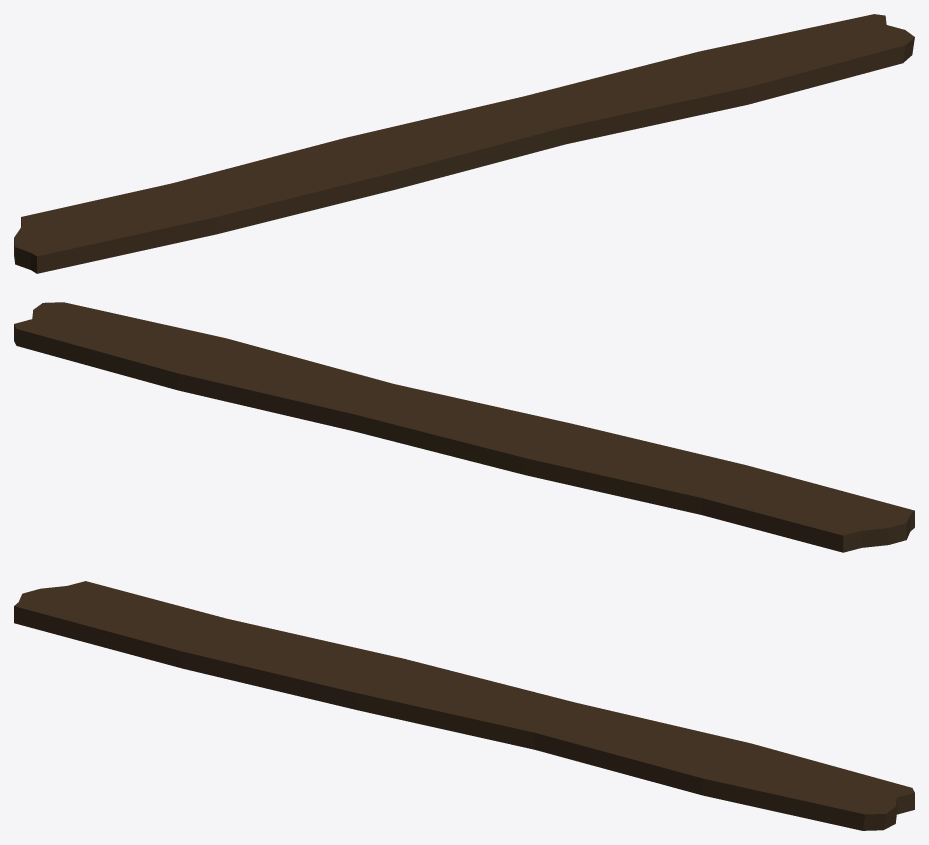
The model's file is WoodPlank.fbx.
3 views of the same model, one above another, from view 1: azimuth 30°, elevation 25°; view 2: azimuth 150°, elevation 25°; view 3: azimuth 330°, elevation 25° (orthographic).
Parts seen in each view (by area): view 1: Cube.001; view 2: Cube.001; view 3: Cube.001.
Boxes of the visible parts, box(x1,y1,x2,y2) form: Cube.001: box(14, 14, 914, 273); Cube.001: box(14, 302, 914, 552); Cube.001: box(14, 581, 914, 830).
Size of the model in its own units: 331 by 6.19 by 31.54.
